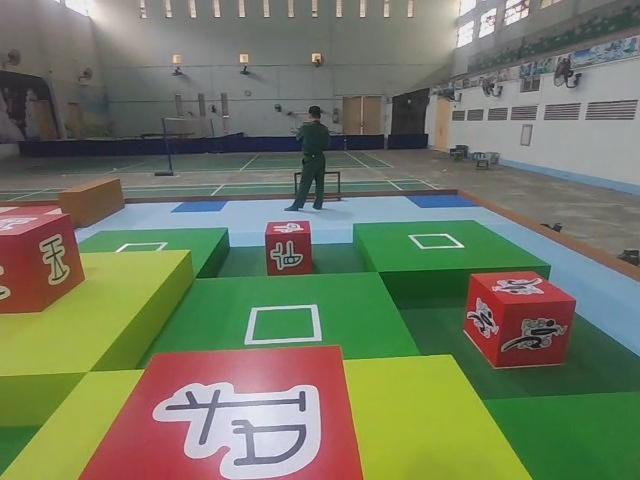R1: (460, 265, 580, 375)
R2 Real: (79, 341, 367, 480), (0, 212, 85, 319), (262, 217, 316, 279)
